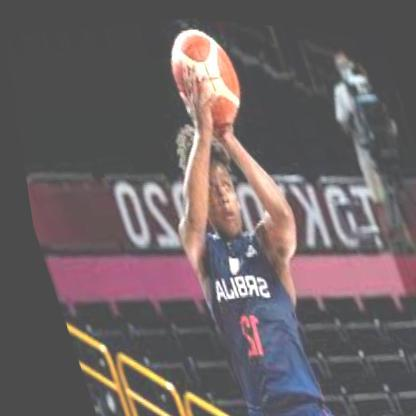basketball: (157, 20, 251, 132)
